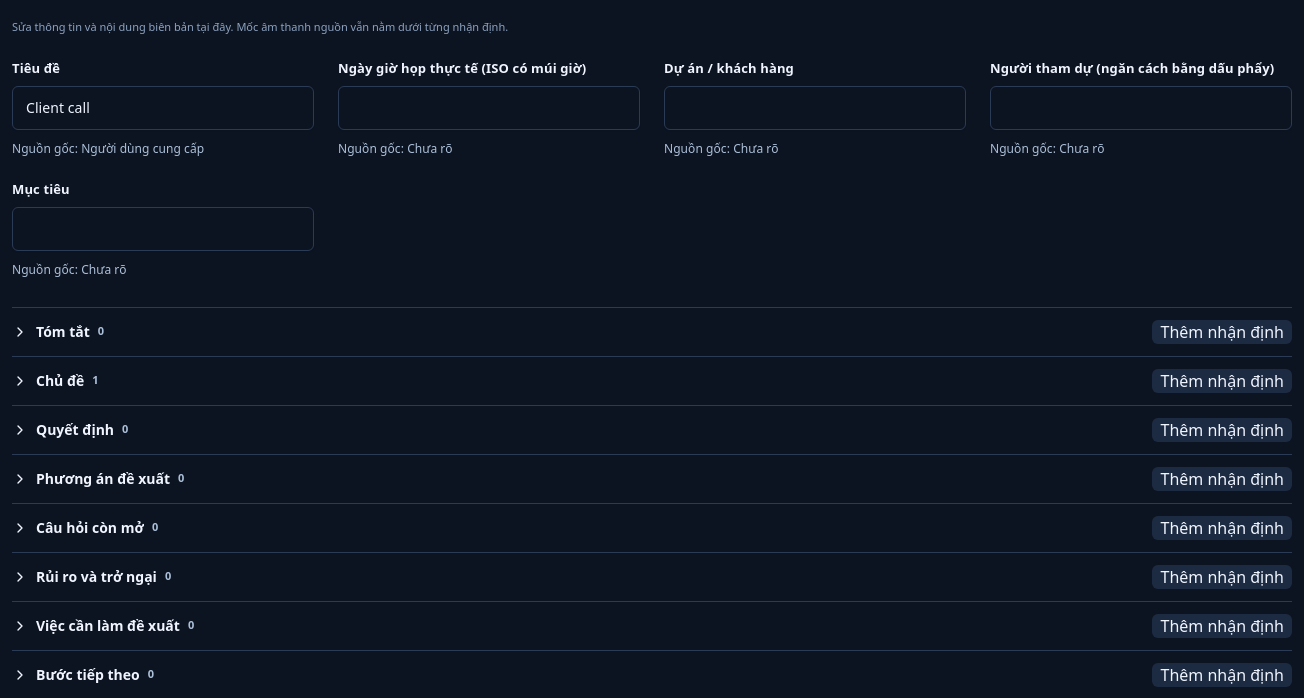
Test case: switches controls to Vietnamese without changing saved content
What coordinates should you click on to do the following:
click the button "Chủ đề 1"
I would click on:
 (60, 381)
Its box is [12,360,1140,402].
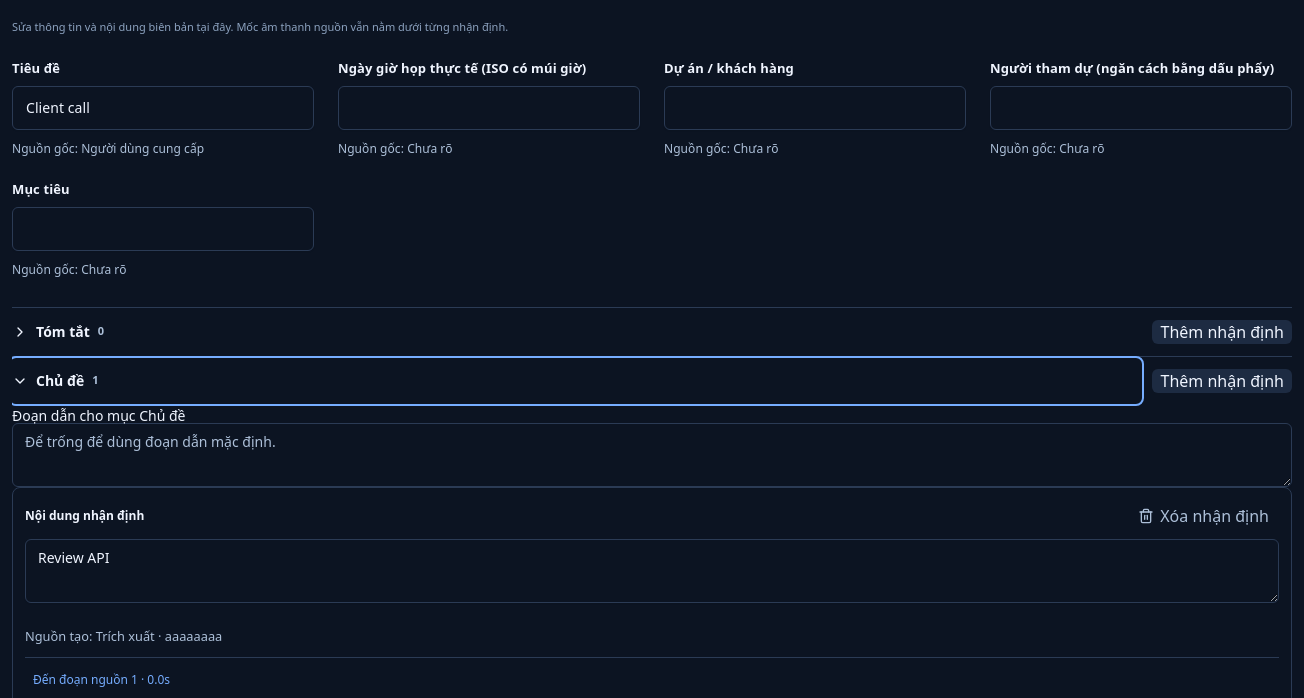
Now the button with aria-label "Xóa nhận định aaaaaaaa" is shown, box [1128,500,1279,532]
